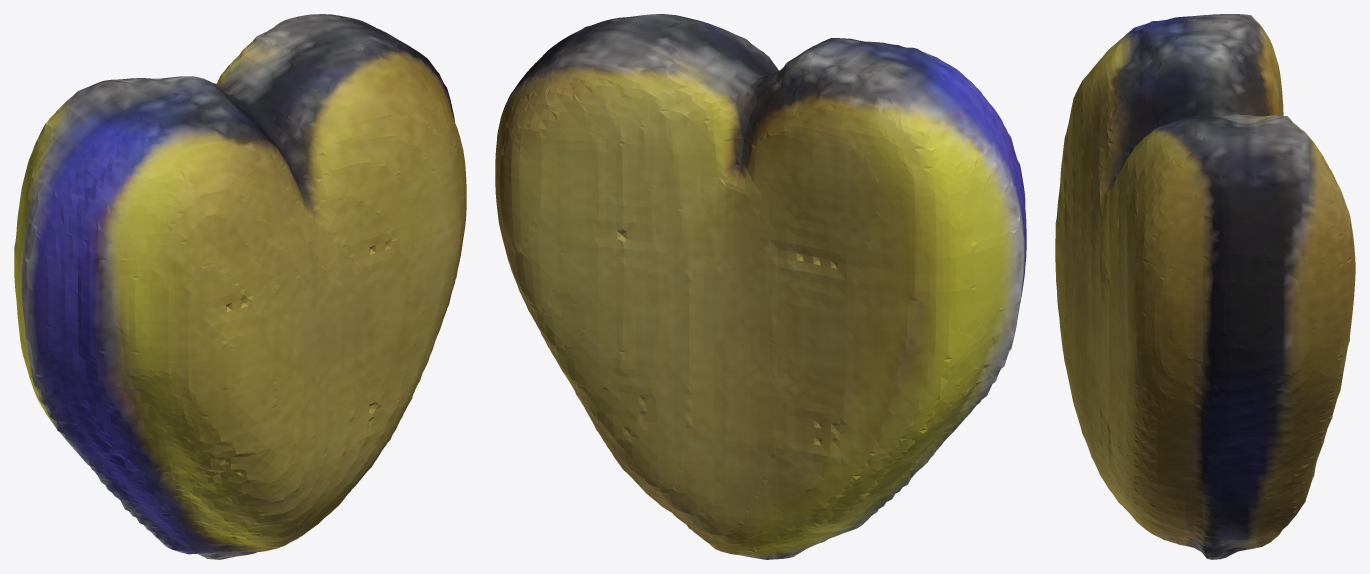
3 renders of one model, left to right at view 1: azimuth 30°, elevation 25°; view 2: azimuth 150°, elevation 25°; view 3: azimuth 270°, elevation 25°, orthographic. The views are drawn at different scales.
Parts seen in each view (by area): view 1: geometry_0; view 2: geometry_0; view 3: geometry_0.
Boxes of the visible parts, x1,y1,x2,y2 form: geometry_0: (14,14,466,559); geometry_0: (495,14,1026,559); geometry_0: (1055,14,1355,559).
Bounding box in the file's own units: 1.88 × 1.95 × 1.11.
